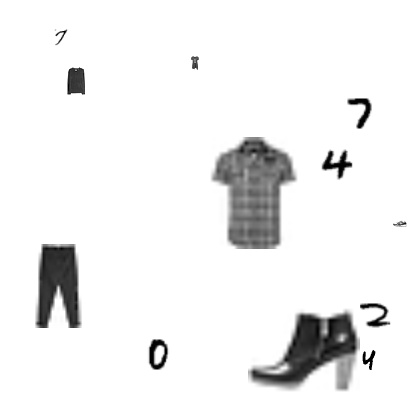0: (136, 332, 178, 374)
2: (354, 293, 396, 335)
4: (316, 142, 358, 184), (354, 345, 382, 373)
7: (340, 88, 382, 130), (50, 24, 72, 46)
Ankle_boot: (248, 294, 360, 406)
Pullover: (62, 67, 90, 95)
Shirt: (196, 137, 308, 249)
Sneaker: (393, 216, 407, 230)
T-shirt/top: (188, 56, 202, 70)
Trouser: (15, 244, 99, 328)
